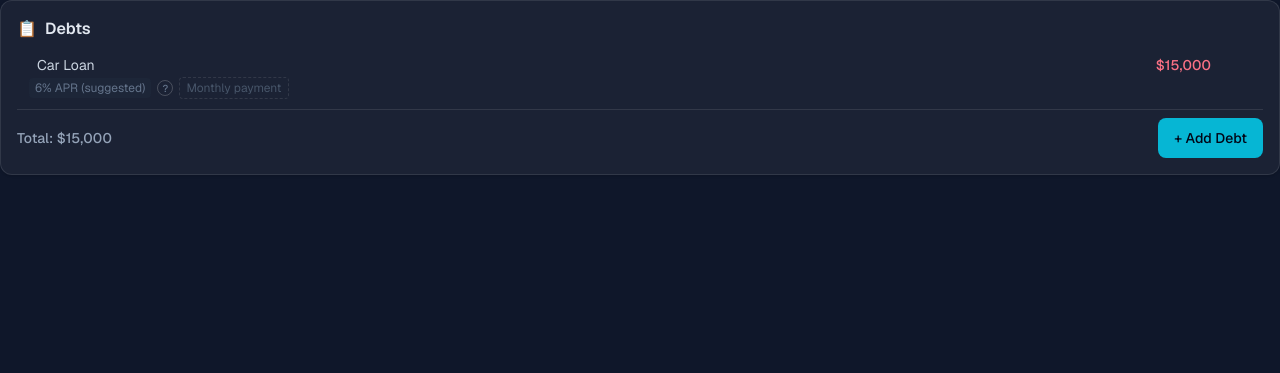
Test case: DebtEntry component › shows add form when Add Debt is clicked
Click the button "+ Add Debt" at (1211, 138), box [1158,118,1263,158]
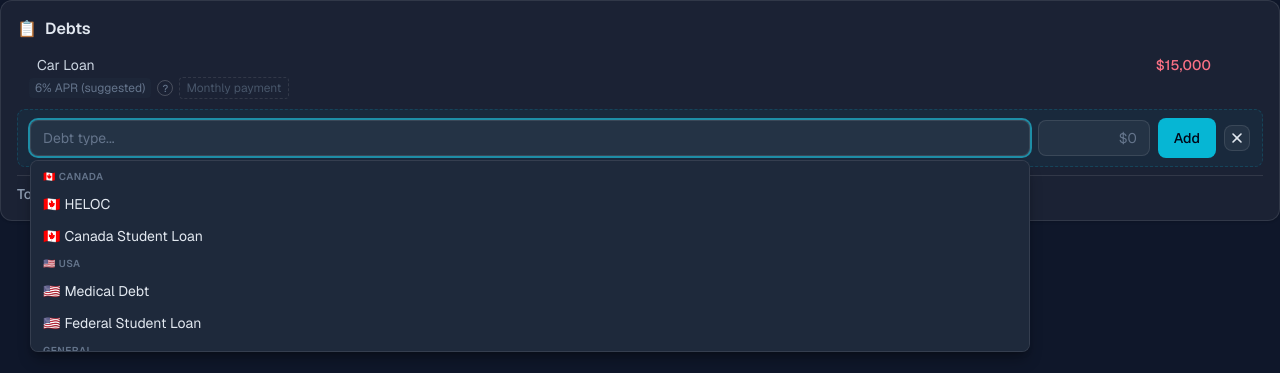
Expected: the field named "New debt category" is shown, [30,120,1030,156]
Expected: the field named "New debt amount" is shown, [1038,120,1150,156]
